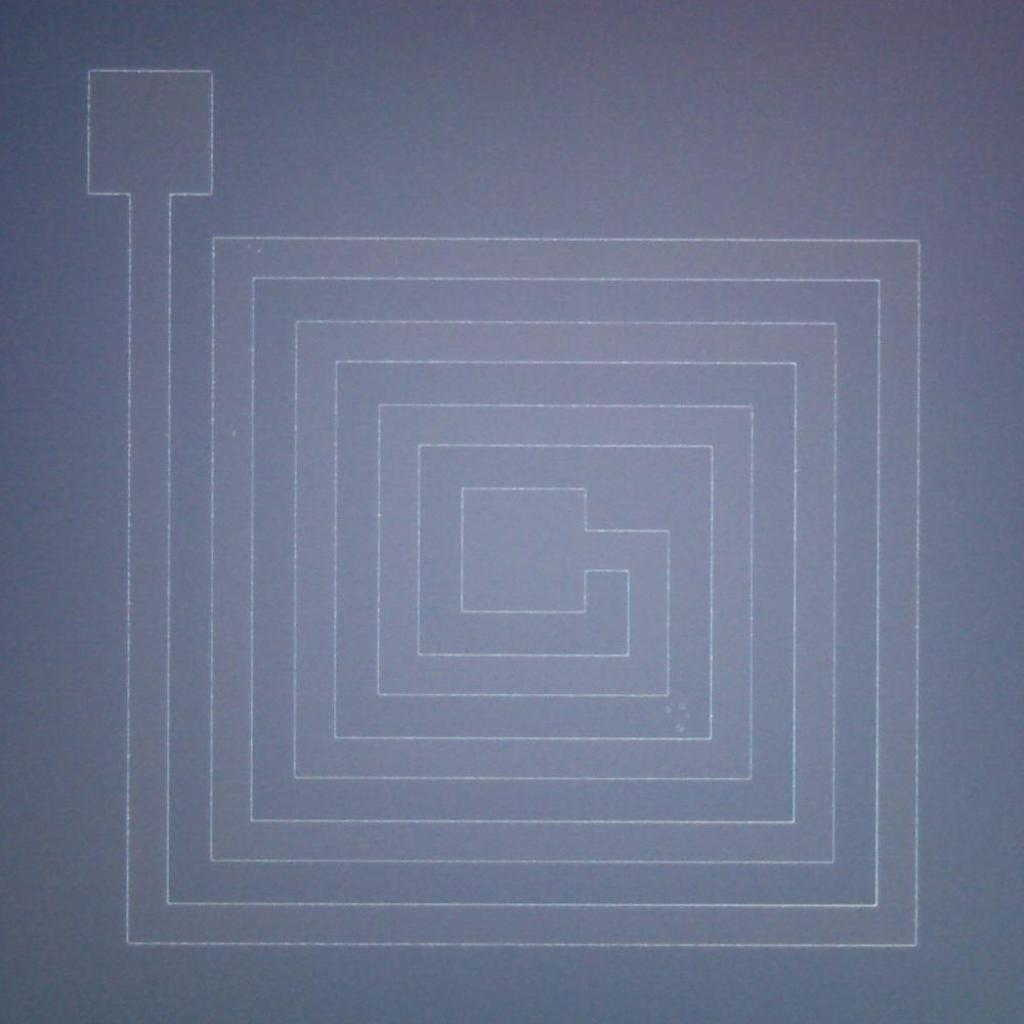dot: (232, 431, 237, 436)
